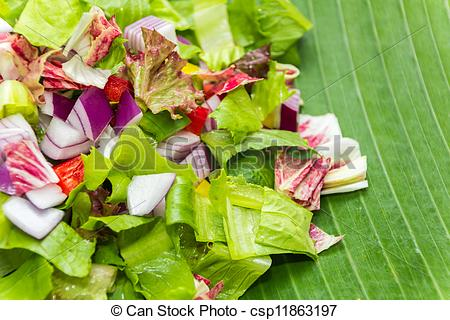chopped lettuce: (58, 154, 316, 296), (172, 1, 288, 62)
